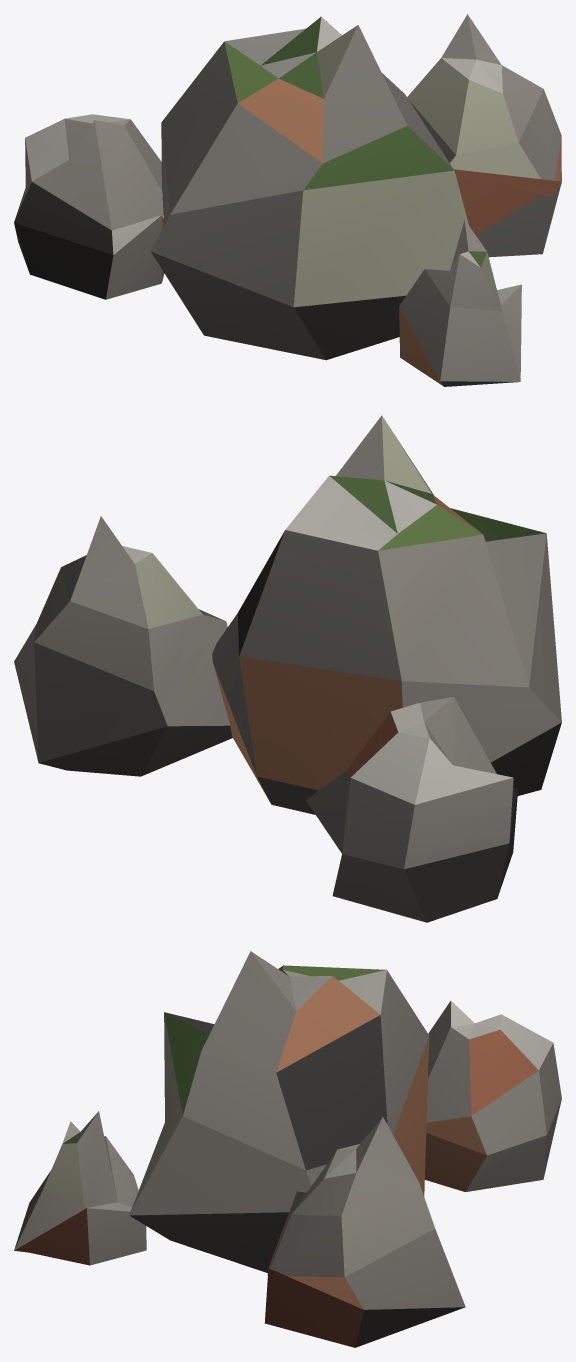
Rendered from rock_cluster_a.glb.
The picture shows the model from 3 angles, top to bottom: view 1: azimuth 30°, elevation 25°; view 2: azimuth 150°, elevation 25°; view 3: azimuth 270°, elevation 25°; orthographic projection. The views are drawn at different scales.
Visible parts, largest first — view 1: rock_cluster_a; view 2: rock_cluster_a; view 3: rock_cluster_a.
Boxes of the visible parts, <box> form: rock_cluster_a: <box>14,14,561,386</box>; rock_cluster_a: <box>14,415,561,922</box>; rock_cluster_a: <box>14,951,561,1347</box>.
Bounding box in the file's own units: 0.8541 × 0.4712 × 0.8369.
Materials: 1 (1 with a texture image).
